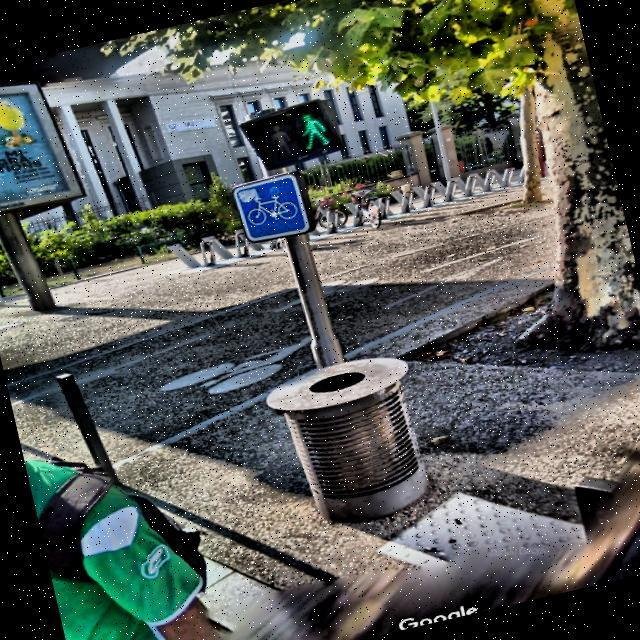green_light: (290, 106, 332, 152)
